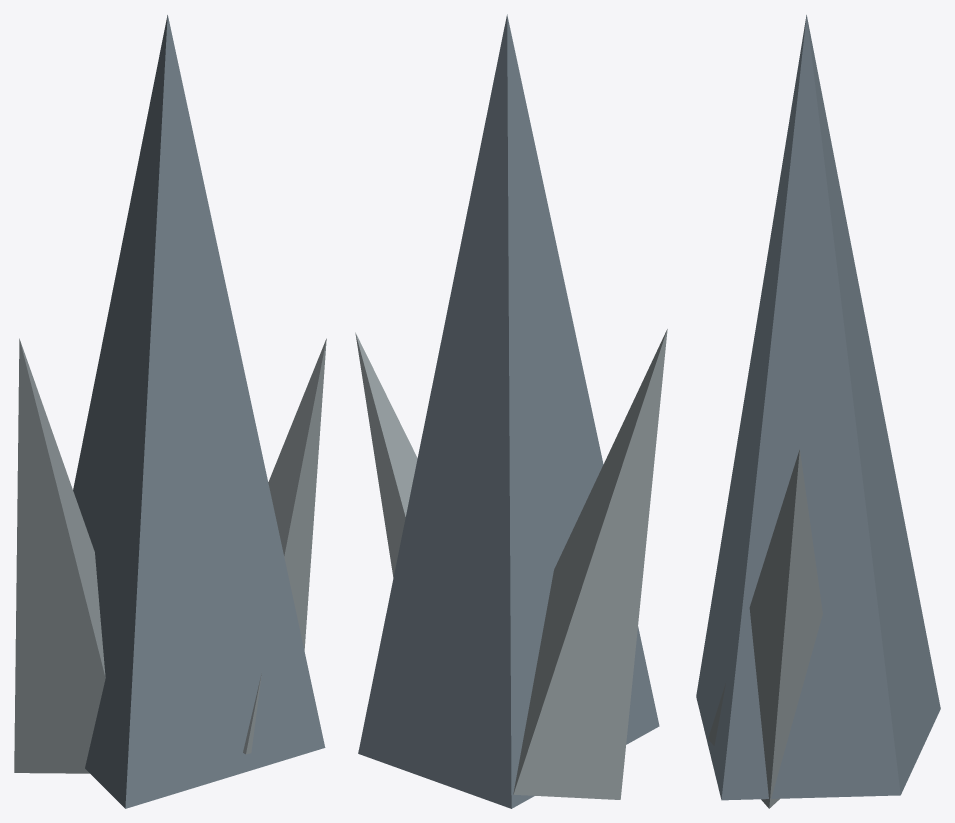
Rendered from Landmark_01_LOD2.fbx.
3 views of the same model, side by side, from view 1: azimuth 30°, elevation 25°; view 2: azimuth 150°, elevation 25°; view 3: azimuth 270°, elevation 25° (orthographic).
Visible parts, largest first — view 1: Landmark_01_LOD2; view 2: Landmark_01_LOD2; view 3: Landmark_01_LOD2.
Part boxes in pixels (left/top/right/bottom): Landmark_01_LOD2: left=14, top=15, right=326, bottom=808; Landmark_01_LOD2: left=355, top=14, right=667, bottom=808; Landmark_01_LOD2: left=696, top=15, right=940, bottom=808.
Bounding box in the file's own units: 213 × 487 × 146.
